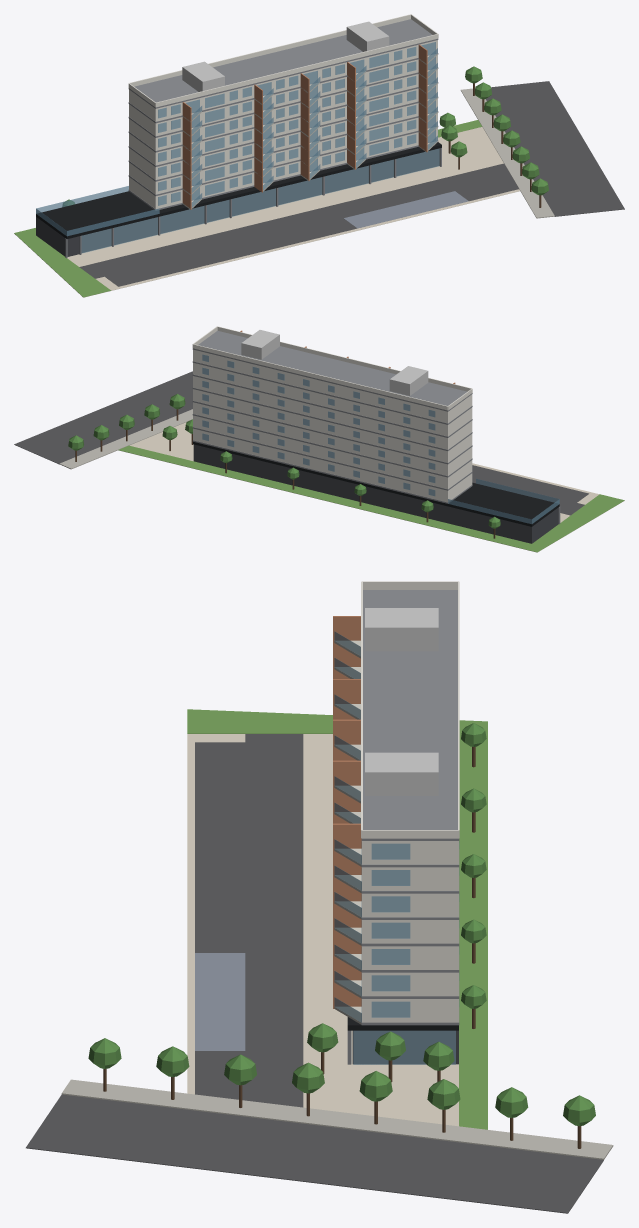
Rendered from kutle_testere.obj.
3 renders of one model, top to bottom at view 1: azimuth 30°, elevation 25°; view 2: azimuth 150°, elevation 25°; view 3: azimuth 270°, elevation 25°, orthographic. The views are drawn at different scales.
Parts seen in each view (by area): view 1: cadde, arsa, arac_yolu, zemin_kat, cati_doseme, tabela_bandi, otopark, kat_7, kat_1, kat_4, kat_3, kat_6 (+47 smaller); view 2: zemin_kat, cadde, cati_doseme, kat_2, kat_6, kat_7, kat_1, kat_5, kat_3, kat_4, tabela_bandi, yesil_kuzey (+23 smaller); view 3: cadde, arac_yolu, arsa, cati_doseme, otopark, yesil_kuzey, kaldirim, rampa, kat_7_sagir_duvar, cati_cikisi_CB, cati_cikisi_CA, yesil_arka (+13 smaller).
Part boxes in pixels (x1,y1,x2,y2): cadde: (486, 81, 624, 216); arsa: (14, 127, 519, 297); arac_yolu: (79, 163, 511, 278); zemin_kat: (36, 148, 439, 256); cati_doseme: (128, 19, 438, 108); tabela_bandi: (36, 142, 441, 238); otopark: (105, 177, 518, 286); kat_7: (129, 40, 437, 121); kat_1: (129, 128, 437, 208); kat_4: (129, 84, 437, 165); kat_3: (129, 98, 437, 179); kat_6: (129, 55, 437, 136); zemin_kat: (193, 444, 558, 543); cadde: (14, 371, 192, 464); cati_doseme: (192, 330, 472, 411); kat_2: (193, 415, 472, 489); kat_6: (193, 363, 472, 436); kat_7: (193, 349, 472, 423); kat_1: (193, 428, 472, 502); kat_5: (193, 376, 472, 449); kat_3: (193, 402, 472, 475); kat_4: (193, 389, 472, 462); tabela_bandi: (193, 442, 559, 526); yesil_kuzey: (118, 445, 545, 552); cadde: (26, 1094, 603, 1213); arac_yolu: (245, 734, 303, 1107); arsa: (187, 734, 458, 1126); cati_doseme: (361, 590, 459, 840); otopark: (195, 742, 245, 1100); yesil_kuzey: (459, 720, 487, 1129); kaldirim: (61, 1079, 613, 1159); rampa: (195, 953, 245, 1050); kat_7_sagir_duvar: (333, 616, 361, 850); cati_cikisi_CB: (365, 608, 438, 651); cati_cikisi_CA: (365, 752, 438, 795); yesil_arka: (187, 709, 332, 733).
Size of the model in its own units: 123 by 28.6 by 60.67.
